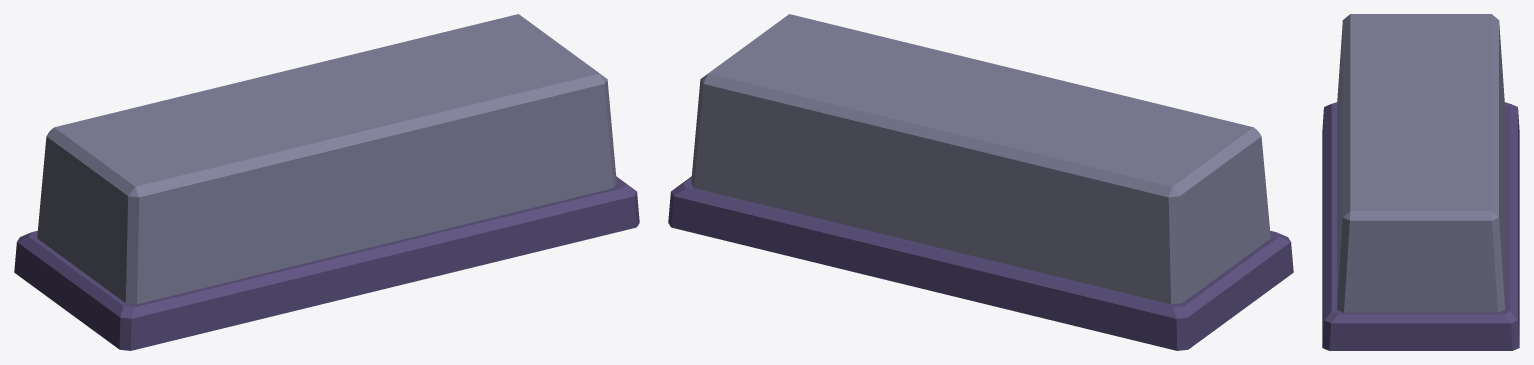
The model's file is Mesa_Piedra.fbx.
The picture shows the model from 3 angles, left to right: view 1: azimuth 30°, elevation 25°; view 2: azimuth 150°, elevation 25°; view 3: azimuth 270°, elevation 25°; orthographic projection. The views are drawn at different scales.
Visible parts, largest first — view 1: Mesa de piedra; view 2: Mesa de piedra; view 3: Mesa de piedra.
Part boxes in pixels (left/top/right/bottom): Mesa de piedra: left=14, top=14, right=639, bottom=350; Mesa de piedra: left=668, top=14, right=1293, bottom=350; Mesa de piedra: left=1322, top=14, right=1519, bottom=350.
Size of the model in its own units: 370 by 100 by 140.
